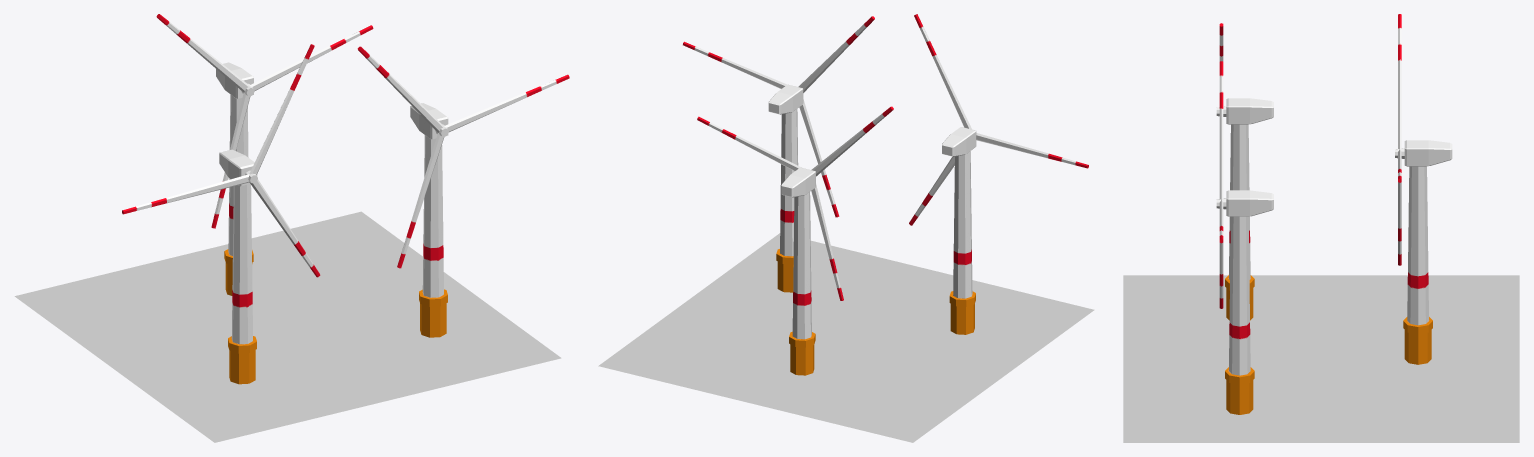
Rendered from Turbine.fbx.
3 renders of one model, left to right at view 1: azimuth 30°, elevation 25°; view 2: azimuth 150°, elevation 25°; view 3: azimuth 270°, elevation 25°, orthographic. The views are drawn at different scales.
Parts seen in each view (by area): view 1: Plane.002, Cube.002; view 2: Plane.002, Cube.002; view 3: Plane.002, Cube.002.
Boxes of the visible parts, bbox=[...] form: Plane.002: bbox=[14, 211, 561, 442]; Cube.002: bbox=[122, 14, 569, 384]; Plane.002: bbox=[598, 233, 1094, 442]; Cube.002: bbox=[683, 14, 1088, 375]; Plane.002: bbox=[1123, 275, 1519, 442]; Cube.002: bbox=[1216, 14, 1452, 414].
Bounding box in the file's own units: 257 × 186 × 200.
